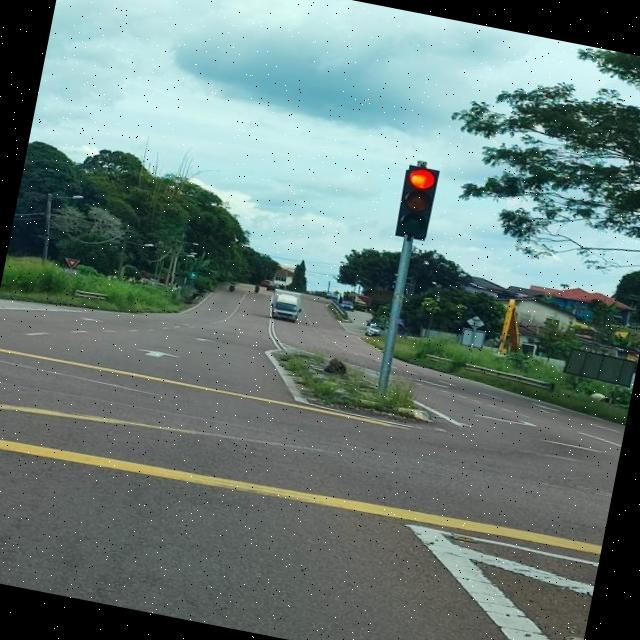red_light: (396, 164, 442, 241)
